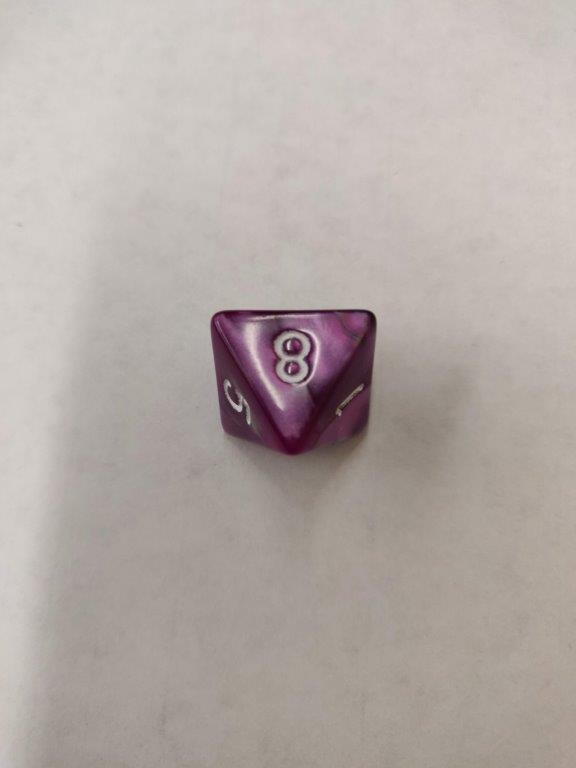d8-8: (211, 307, 379, 438)
